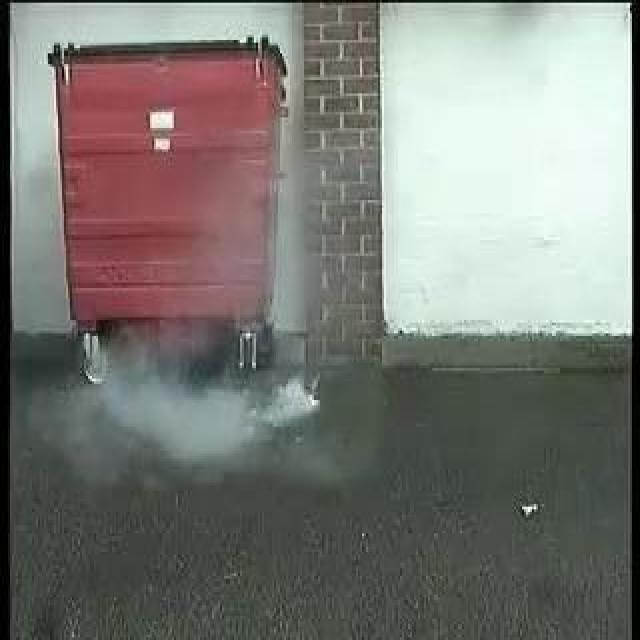Smoke: (105, 345, 321, 452)
